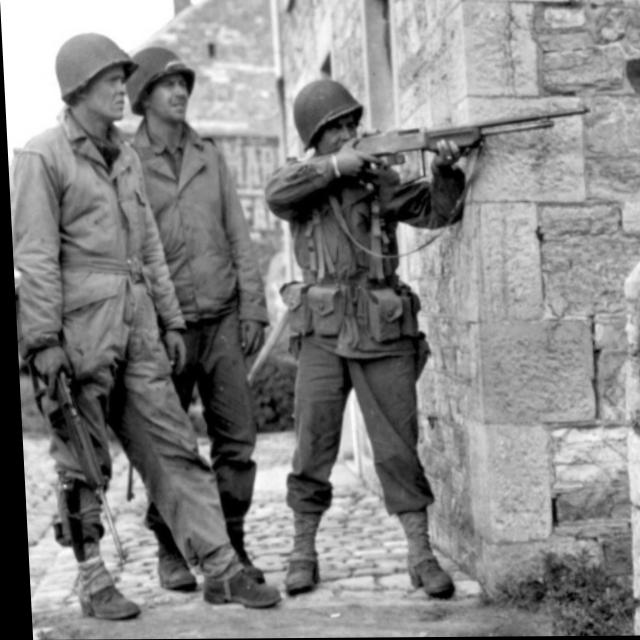other: (265, 67, 457, 573), (23, 26, 189, 601), (115, 20, 280, 488)
